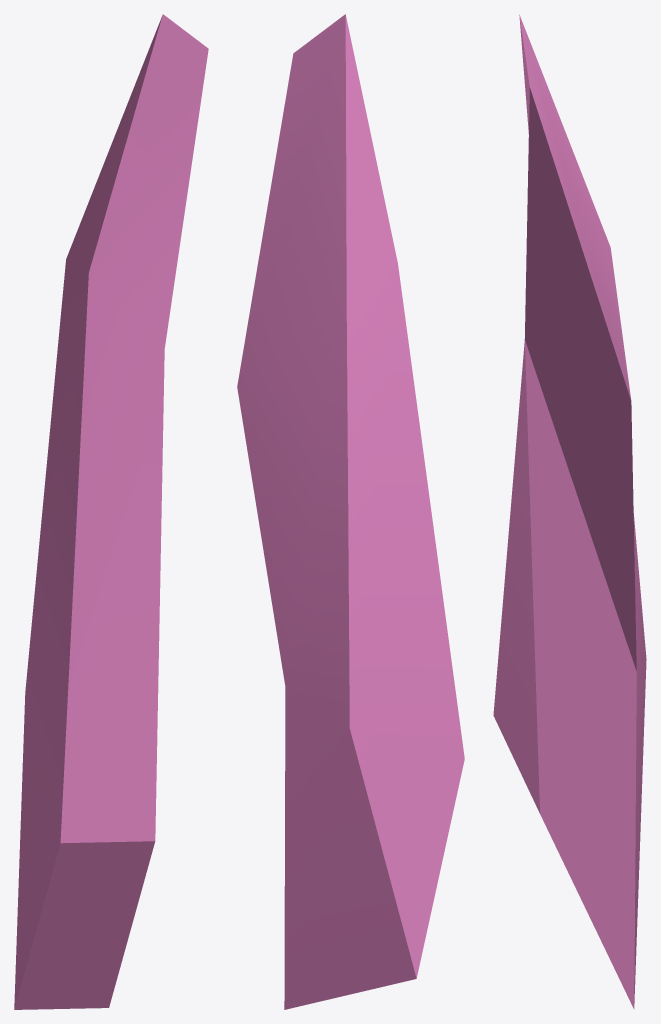
File: FloatingRock_3.fbx
3 views of the same model, side by side, from view 1: azimuth 30°, elevation 25°; view 2: azimuth 150°, elevation 25°; view 3: azimuth 270°, elevation 25° (orthographic). The views are drawn at different scales.
Visible parts, largest first — view 1: FloatingRock_3; view 2: FloatingRock_3; view 3: FloatingRock_3.
Boxes of the visible parts, bbox=[...] form: FloatingRock_3: bbox=[14, 14, 208, 1009]; FloatingRock_3: bbox=[237, 14, 464, 1009]; FloatingRock_3: bbox=[493, 14, 646, 1009].
Bounding box in the file's own units: 115 × 90.75 × 650.
